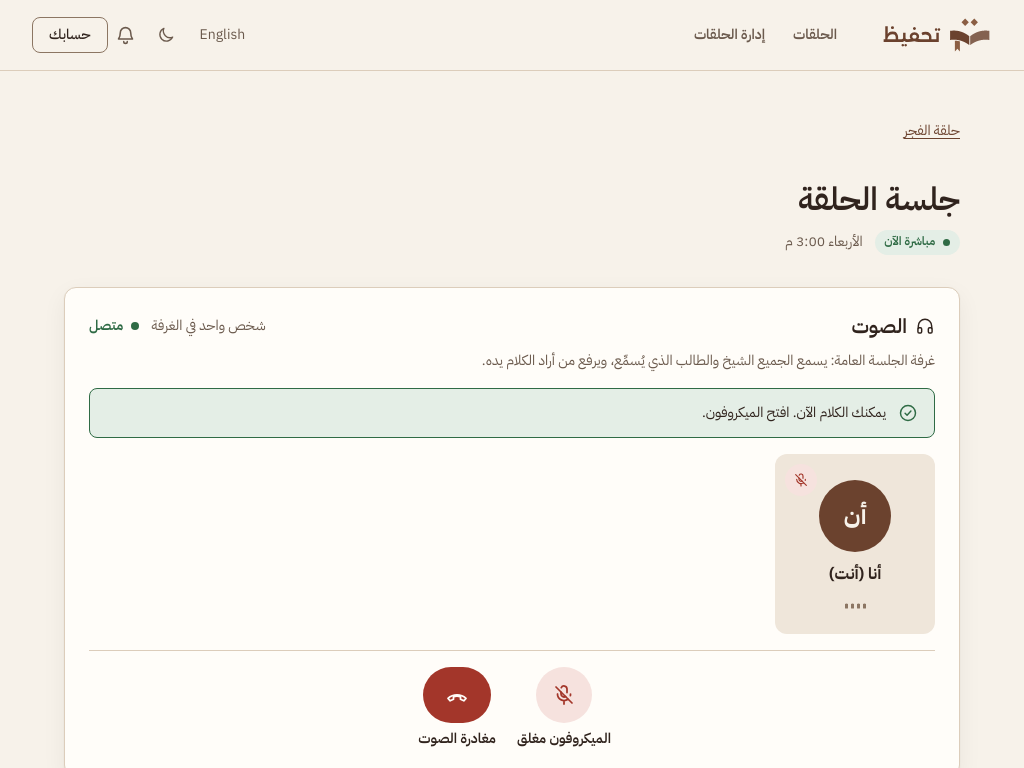
Test case: session audio › follows a floor grant from the server and opens the microphone on request
Check: the text "متصل" is shown, box [89, 314, 139, 338]
Check: the text "يمكنك الكلام الآن. افتح الميكروفون." is shown, box [702, 402, 886, 424]
Click the button "الميكروفون مغلق" at (564, 710), box [517, 667, 611, 752]
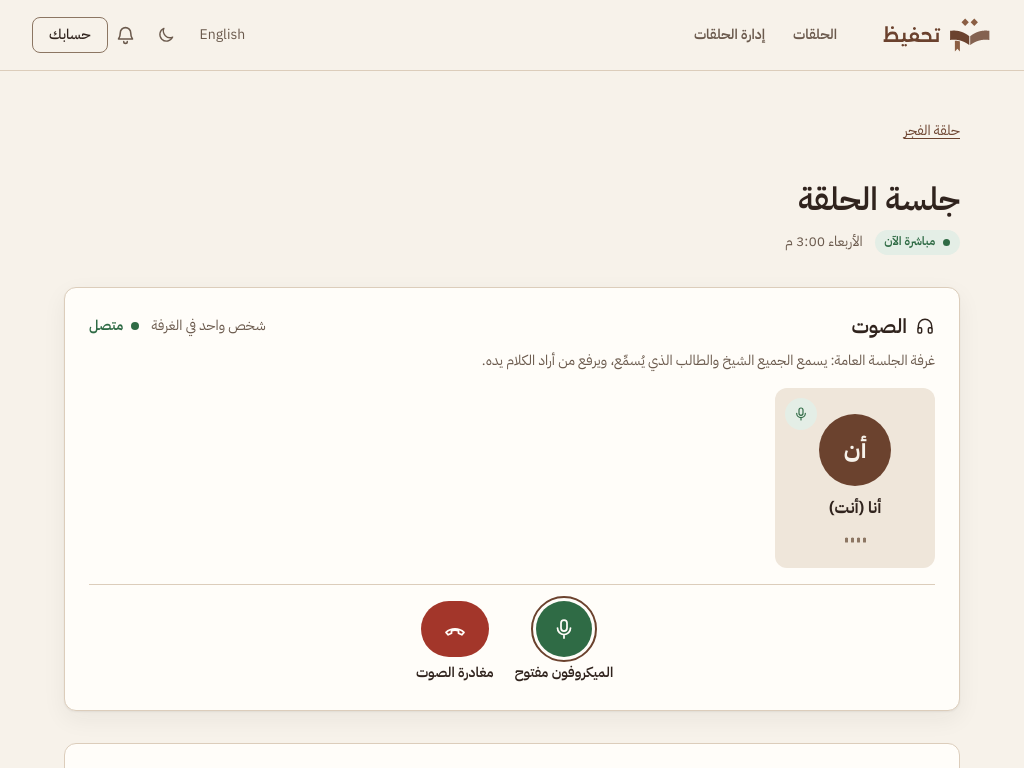
Check: the button "الميكروفون مفتوح" is shown, box [515, 602, 613, 686]
